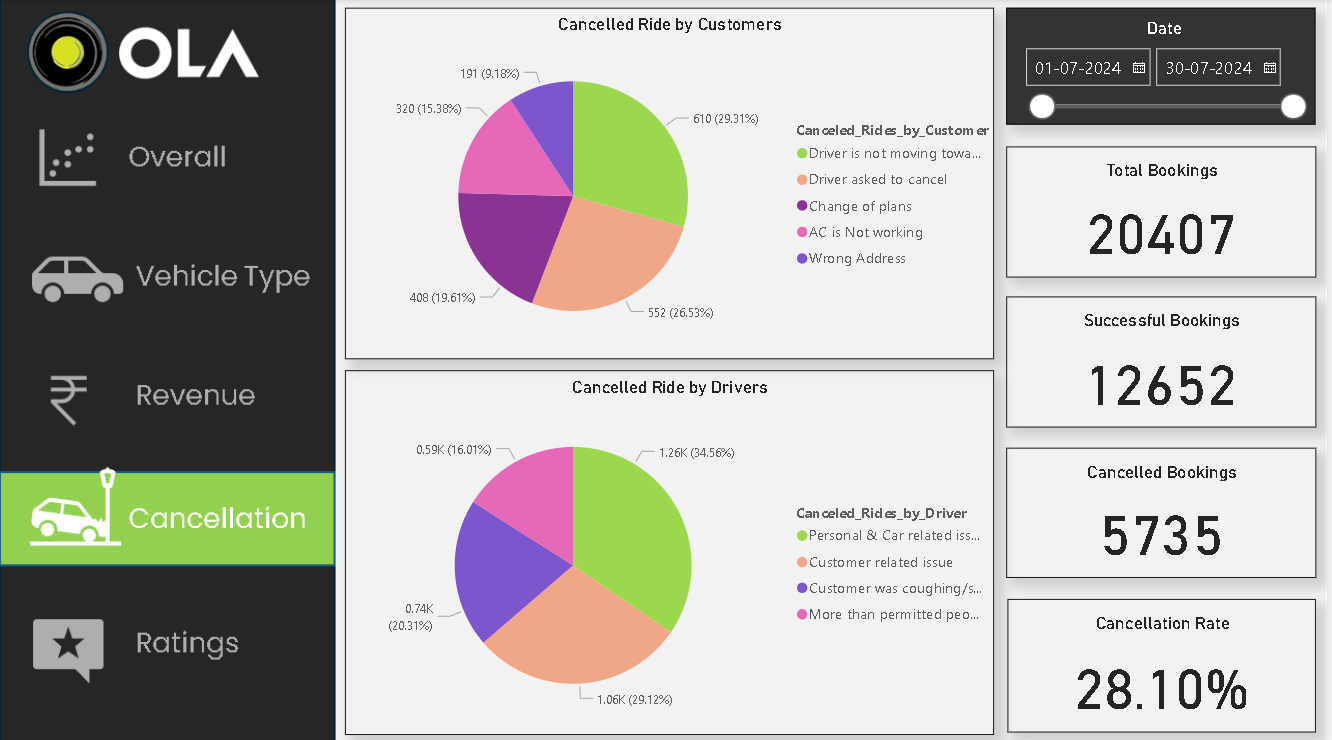

The page's visual inventory and layout, read from the dashboard file:
{"tool":"powerbi","page":{"name":"Cancellation","canvas":[1280,720],"ordinal":3},"visuals":[{"type":"actionButton","box":[0,578.5,323.2,89.5],"z":0},{"type":"actionButton","box":[0,222.2,323.2,89.5],"z":1000},{"type":"actionButton","box":[0,109.6,323.2,89.5],"z":2000},{"type":"actionButton","box":[0,339,323.2,89.5],"z":3000},{"type":"pieChart","title":"Cancelled Ride by Customers","fields":{"Category":["Bookings1.Canceled_Rides_by_Customer"],"Y":["CountNonNull(Bookings1.Canceled_Rides_by_Customer)"]},"box":[333.3,8.7,626.2,339],"z":4000},{"type":"pieChart","title":"Cancelled Ride by Drivers","fields":{"Category":["Bookings1.Canceled_Rides_by_Driver"],"Y":["CountNonNull(Bookings1.Canceled_Rides_by_Driver)"]},"box":[333.3,357.8,626.2,352],"z":5000},{"type":"slicer","title":"Date","fields":{"Values":["Bookings1.Date"]},"box":[971,8.7,298.7,112.5],"z":5001},{"type":"card","title":"Total Bookings","fields":{"Values":["CountNonNull(Bookings1.Booking_ID)"]},"box":[971.2,142.4,299.2,126],"z":5002},{"type":"card","title":"Successful Bookings","fields":{"Values":["CountNonNull(Bookings1.Booking_ID)"]},"box":[971.2,287.1,299.2,126.7],"z":5003},{"type":"card","title":"Cancelled Bookings","fields":{"Values":["CountNonNull(Bookings1.Booking_ID)"]},"box":[971.2,433.1,299.2,125.5],"z":5004},{"type":"card","title":"Cancellation Rate ","fields":{"Values":["Bookings.CanceledPercentage"]},"box":[972.4,579.1,298,129.1],"z":5005}]}

Visuals, with their boxes on the page's 1280x720 design canvas (x1, y1, x2, y2). These are canvas units, not pixel positions in the 1332x740 screenshot, which may show the page scaled, cropped or inside an application window:
actionButton: BBox(0, 578, 323, 668)
actionButton: BBox(0, 222, 323, 312)
actionButton: BBox(0, 110, 323, 199)
actionButton: BBox(0, 339, 323, 428)
"Cancelled Ride by Customers" pieChart: BBox(333, 9, 960, 348)
"Cancelled Ride by Drivers" pieChart: BBox(333, 358, 960, 710)
"Date" slicer: BBox(971, 9, 1270, 121)
"Total Bookings" card: BBox(971, 142, 1270, 268)
"Successful Bookings" card: BBox(971, 287, 1270, 414)
"Cancelled Bookings" card: BBox(971, 433, 1270, 559)
"Cancellation Rate " card: BBox(972, 579, 1270, 708)
